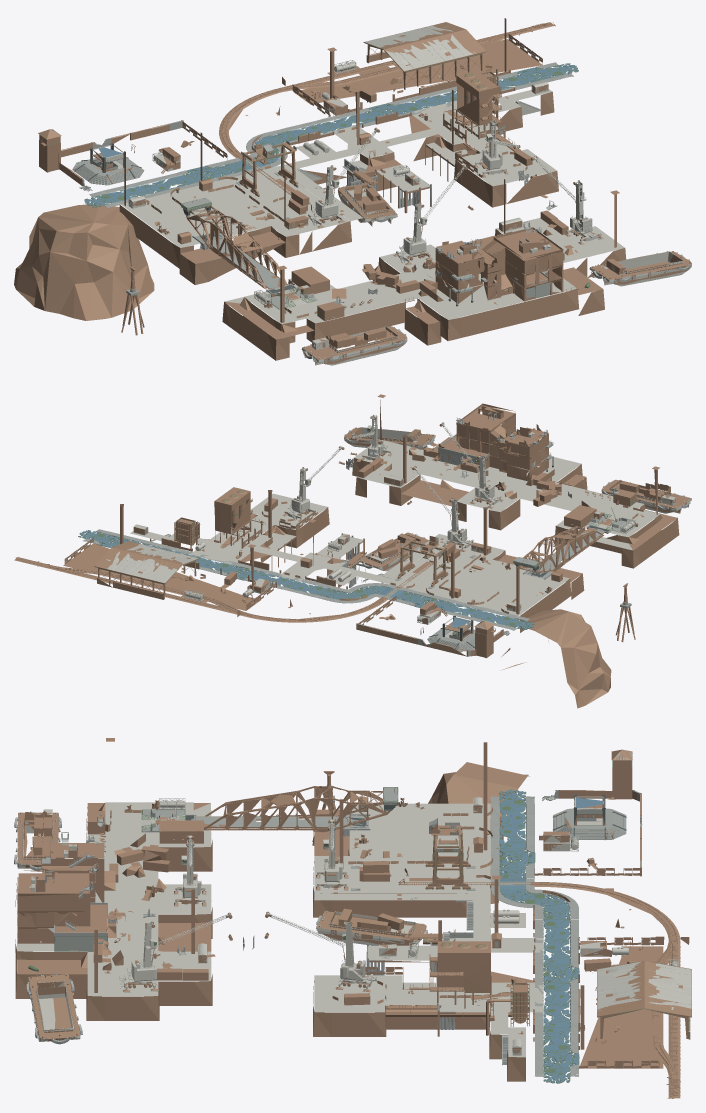
File: harbor_1-close.glb
The picture shows the model from 3 angles, top to bottom: view 1: azimuth 30°, elevation 25°; view 2: azimuth 150°, elevation 25°; view 3: azimuth 270°, elevation 25°; orthographic projection. The views are drawn at different scales.
Visible parts, largest first — view 1: harbor_1_hlod, fuel_tank_a_600, temperate, road_9x15_LOD0, Rowboat_shop_static, walkway_b_support_pillar_var_b_300 (3); view 2: harbor_1_hlod, fuel_tank_a_600, temperate, road_9x15_LOD0, Rowboat_shop_static; view 3: harbor_1_hlod, fuel_tank_a_600, temperate, road_9x15_LOD0, Rowboat_shop_static, walkway_b_support_pillar_var_b_300 (3).
Part boxes in pixels (<box>): harbor_1_hlod: <box>14,18,691,364</box>; fuel_tank_a_600: <box>92,25,691,365</box>; temperate: <box>53,62,690,362</box>; road_9x15_LOD0: <box>84,63,578,207</box>; Rowboat_shop_static: <box>47,45,590,317</box>; walkway_b_support_pillar_var_b_300 (3): <box>75,143,473,306</box>; harbor_1_hlod: <box>14,394,691,708</box>; fuel_tank_a_600: <box>106,415,691,640</box>; temperate: <box>83,411,690,656</box>; road_9x15_LOD0: <box>78,530,534,629</box>; Rowboat_shop_static: <box>78,427,636,636</box>; harbor_1_hlod: <box>15,738,691,1098</box>; fuel_tank_a_600: <box>17,796,691,1057</box>; temperate: <box>14,750,642,1076</box>; road_9x15_LOD0: <box>499,789,603,1083</box>; Rowboat_shop_static: <box>28,760,691,1083</box>; walkway_b_support_pillar_var_b_300 (3): <box>185,795,626,838</box>.
Size of the model in its own units: 281 by 67.35 by 231.
